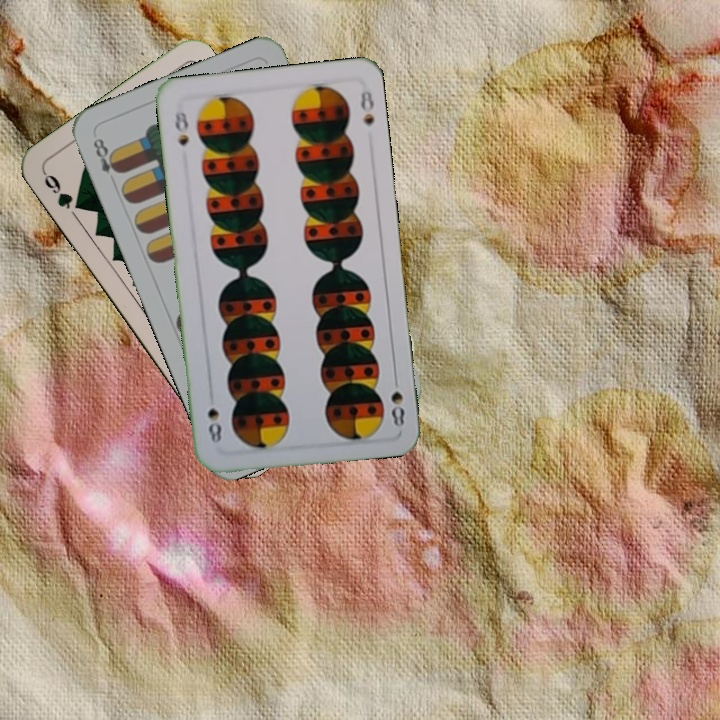E8: (88, 134, 124, 188)
G9: (38, 168, 86, 213)
S8: (387, 370, 408, 430), (171, 104, 191, 148)
